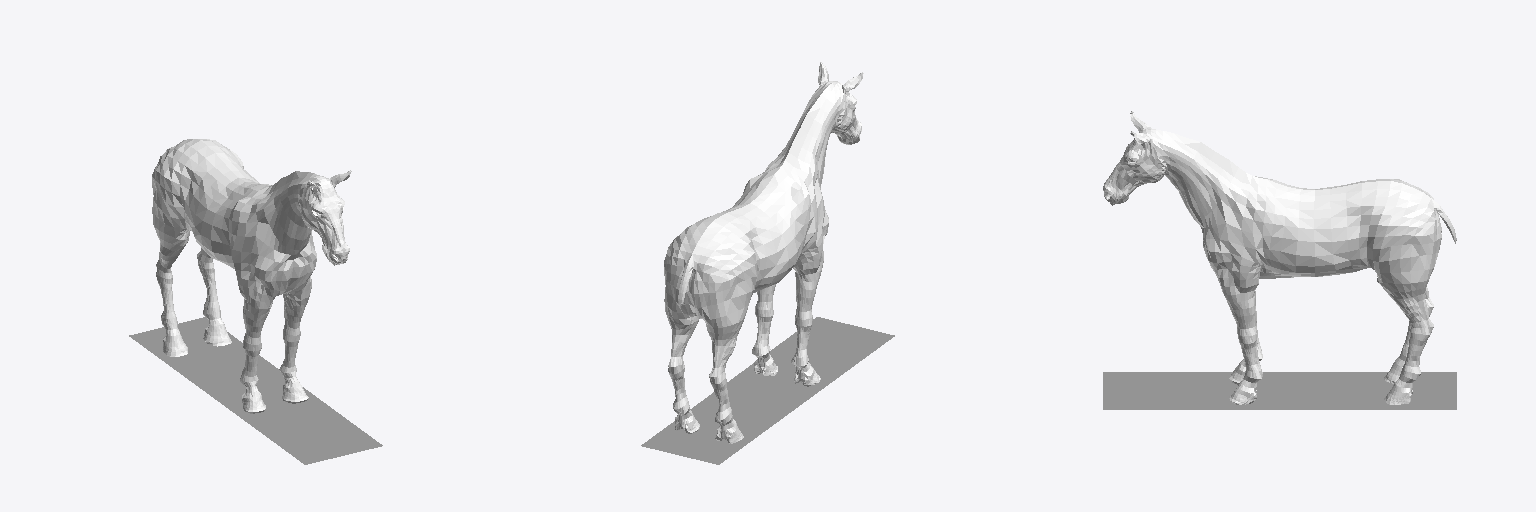
Rendered from caballo.obj.
3 renders of one model, left to right at view 1: azimuth 30°, elevation 25°; view 2: azimuth 150°, elevation 25°; view 3: azimuth 270°, elevation 25°, orthographic.
Visible parts, largest first — view 1: horse_palomino_horse_mesh_2, ground_1; view 2: horse_palomino_horse_mesh_2, ground_1; view 3: horse_palomino_horse_mesh_2, ground_1.
Boxes of the visible parts, <box> form: horse_palomino_horse_mesh_2: <box>152,139,351,413</box>; ground_1: <box>129,317,382,464</box>; horse_palomino_horse_mesh_2: <box>664,62,863,443</box>; ground_1: <box>641,317,894,464</box>; horse_palomino_horse_mesh_2: <box>1103,111,1456,404</box>; ground_1: <box>1103,372,1456,409</box>.
Size of the model in its own units: 58.74 by 193 by 229.